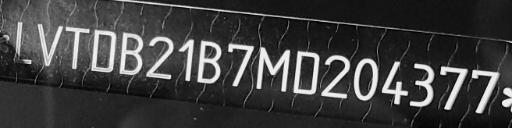letter: (252, 43, 294, 97), (464, 68, 506, 116), (222, 39, 260, 89), (290, 48, 328, 96), (318, 52, 356, 100), (436, 64, 470, 114), (88, 26, 122, 76), (144, 34, 178, 84), (114, 30, 148, 78), (350, 55, 382, 105), (407, 58, 439, 108), (194, 38, 224, 90), (378, 58, 410, 106), (33, 22, 65, 70), (60, 24, 92, 72), (8, 20, 38, 68), (175, 34, 199, 88)
